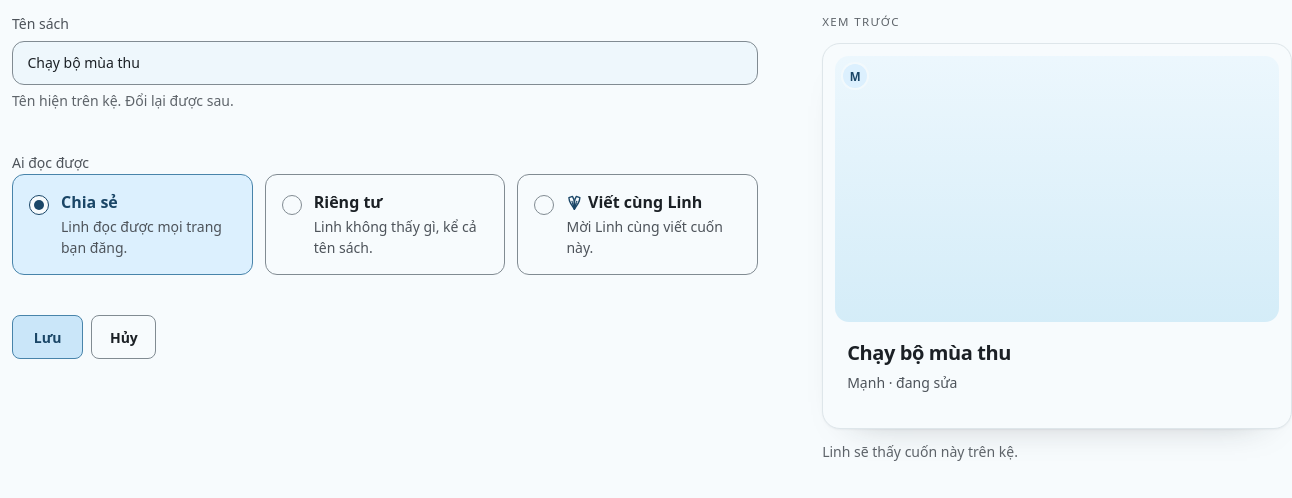
Sua sach: sach mot nguoi viet › chon Viet cung hien ghi chu gui loi moi, noi voi radio qua aria-describedby
The width and height of the screenshot is (1292, 498).
Click the radio button labelled "Viết cùng Linh".
click(544, 205)  # box [534,195,554,215]
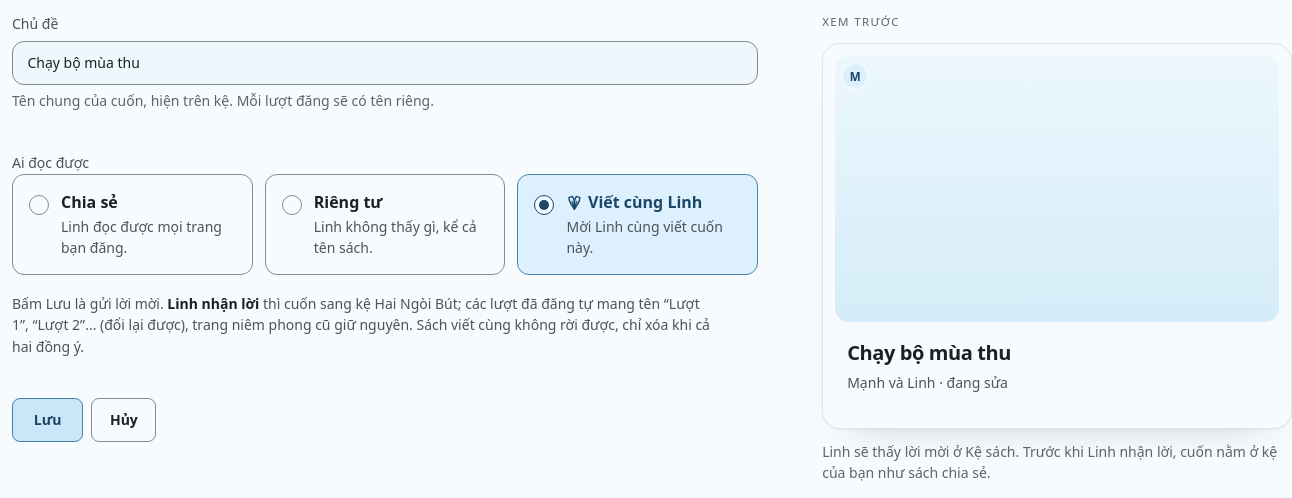
Result: the element with class "ghi-chung" shows "Bấm Lưu là gửi lời mời." at [12,294,167,313]
